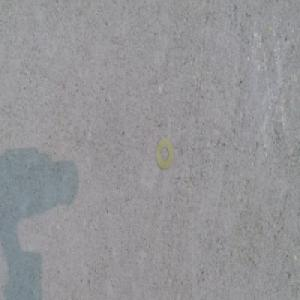Washer: (156, 137, 174, 171)
